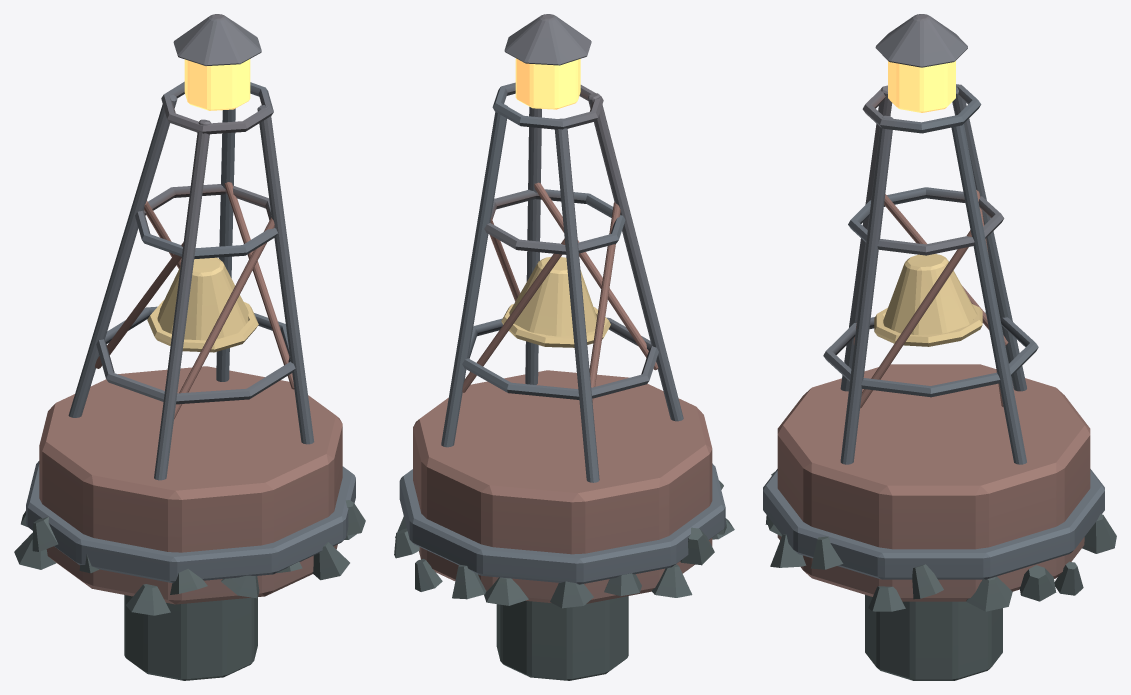
Rendered from rusted_warning_buoy.glb.
3 renders of one model, left to right at view 1: azimuth 30°, elevation 25°; view 2: azimuth 150°, elevation 25°; view 3: azimuth 270°, elevation 25°, orthographic. The views are drawn at different scales.
Parts seen in each view (by area): view 1: RustedWarningBuoy; view 2: RustedWarningBuoy; view 3: RustedWarningBuoy.
Boxes of the visible parts, <box> form: RustedWarningBuoy: <box>14,14,365,680</box>; RustedWarningBuoy: <box>394,14,734,680</box>; RustedWarningBuoy: <box>763,14,1116,680</box>.
Size of the model in its own units: 2.7 by 5.32 by 2.63.
